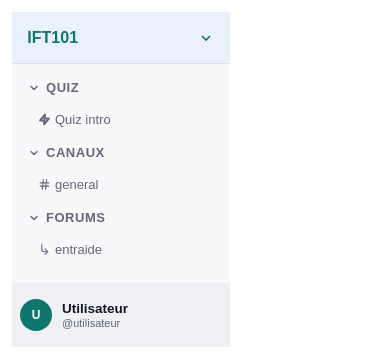
Test: CourseMenu › sélecteur de cours › admin : crayon d’édition (id du cours) et « Ajouter un cours »
The width and height of the screenshot is (372, 364).
Click the button "IFT101" at (121,38), box [12,12,230,63]
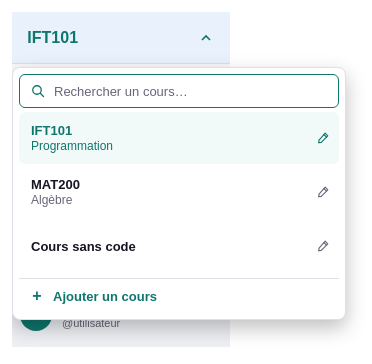
Click the button named "Modifier le cours MAT200" at (323,192), box [307,166,339,218]
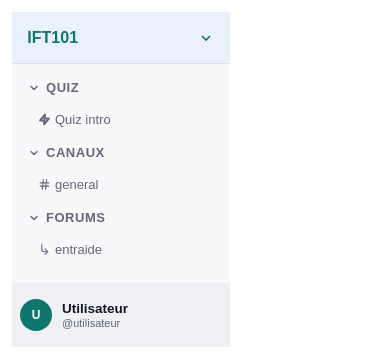
Now the list "IFT101 Programmation MAT200 Algèbre Cours sans code" is gone
Click the button "IFT101" at (121,38), box [12,12,230,63]
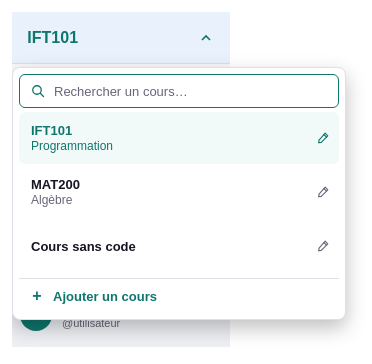
Click the text "Ajouter un cours" at (105,296), box [53,288,157,304]
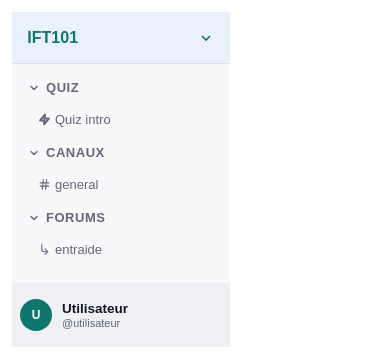
Now the list "IFT101 Programmation MAT200 Algèbre Cours sans code" is gone
